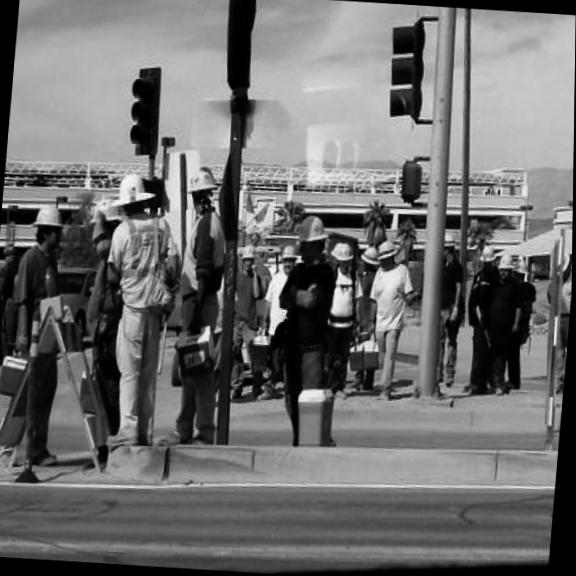safety_vest: (116, 207, 173, 308)
